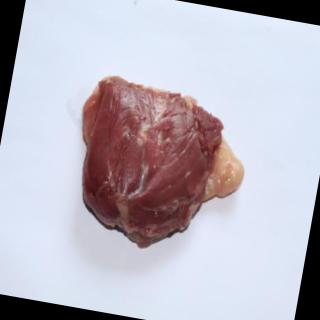Daging Sapi: (61, 73, 257, 265)
